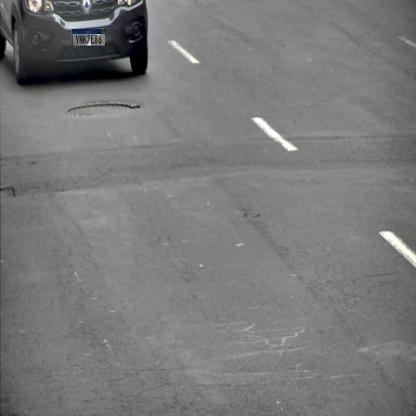PlacaM: (72, 29, 106, 47)
